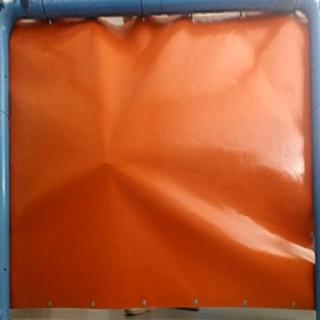Hit-hRxx: (98, 156, 116, 168)
